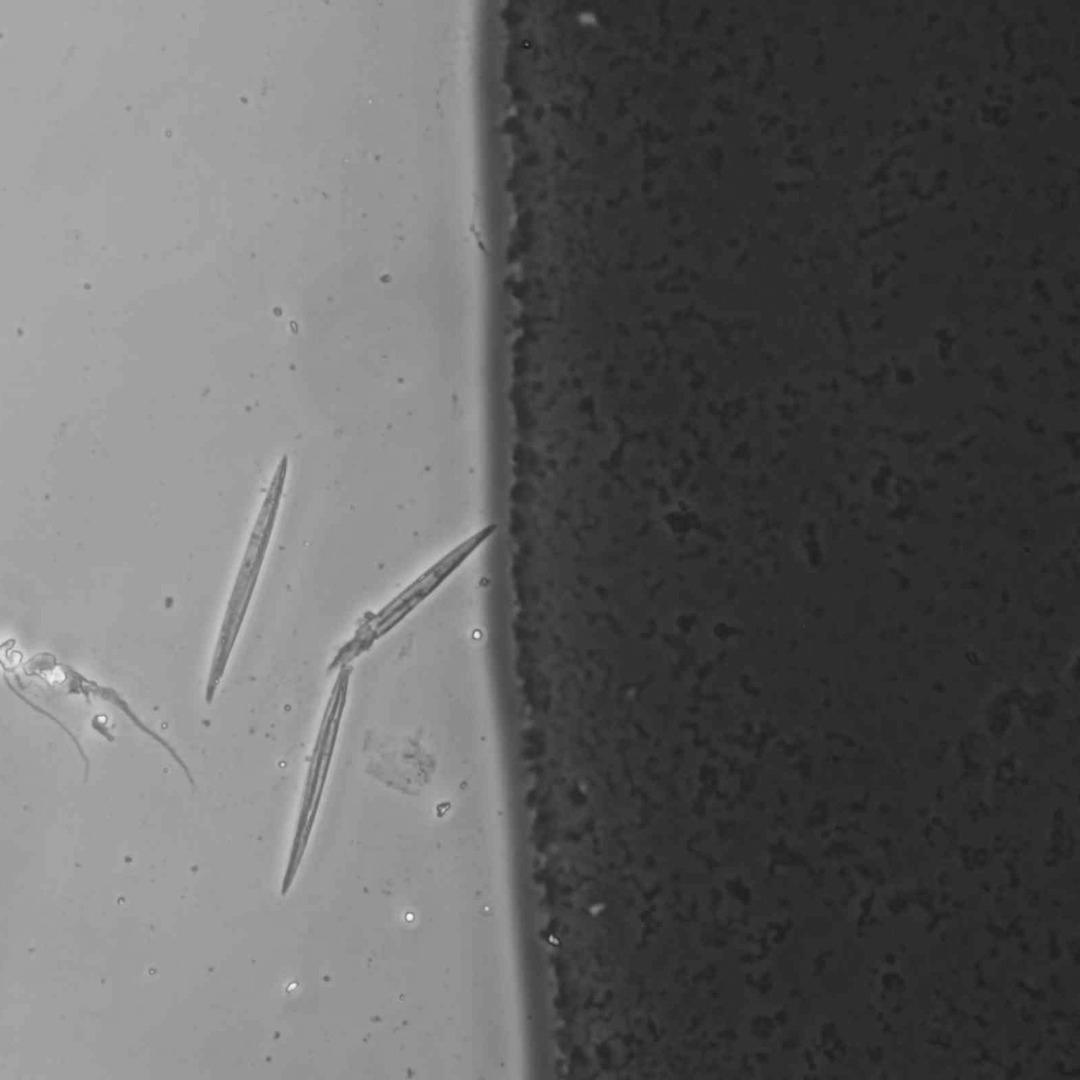pseudo_nitzschia: (205, 449, 288, 710), (279, 660, 347, 894)
